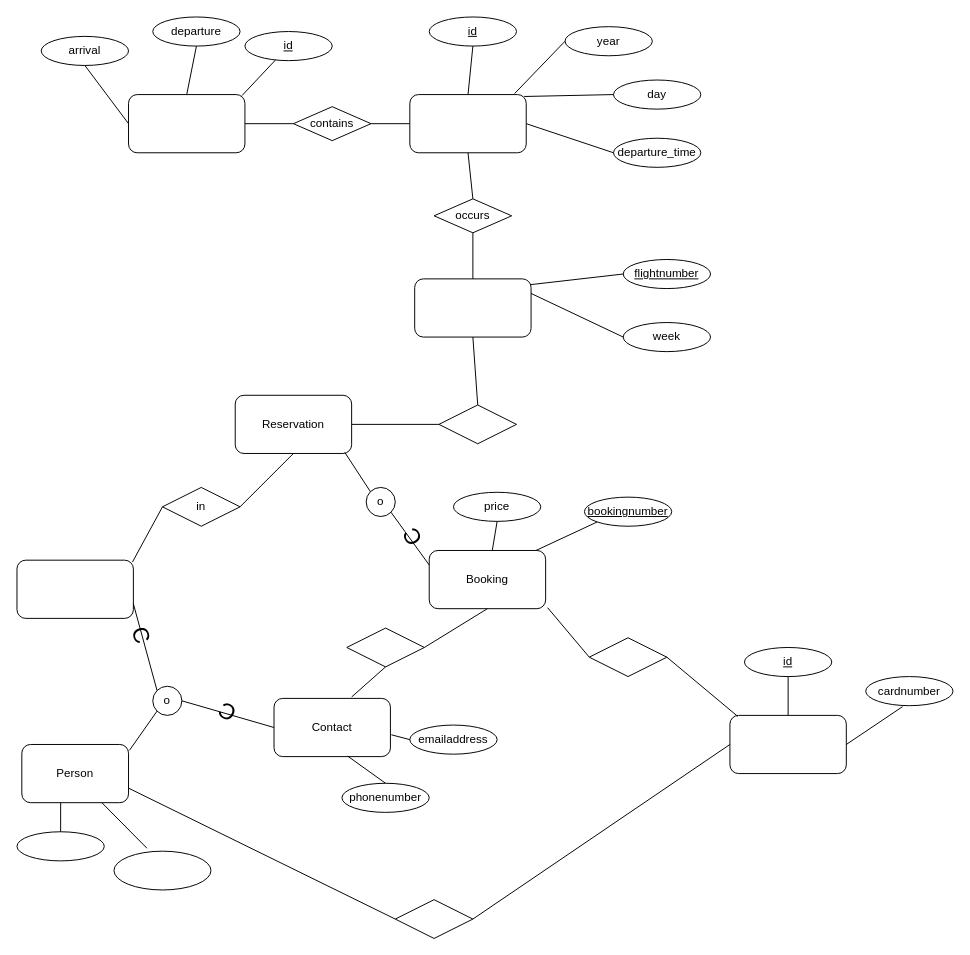
The diagram is 970 pixels wide and 955 high, and some of its shapes have lost their labels. Each missing label, with the centre of its shape:
booked: the point at 385,647
charged: the point at 627,657
Debit: the point at 787,744
Flight: the point at 472,307
name: the point at 60,846
paid: the point at 433,918
Passenger: the point at 74,588
passportnumber: the point at 162,870
reserves: the point at 477,424
Route: the point at 186,123
schedual_weekly: the point at 467,123
